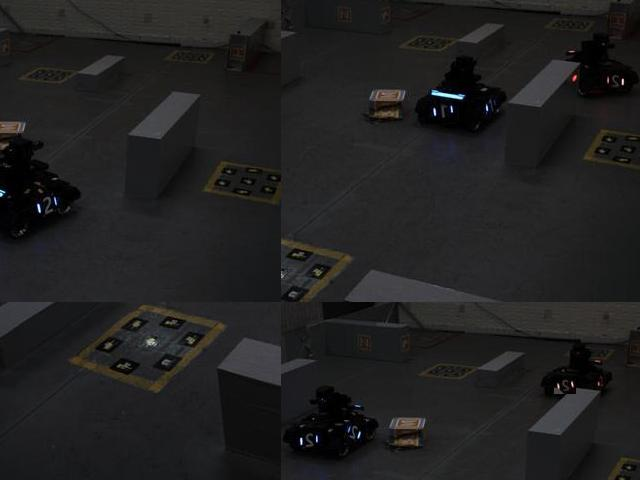armor: (430, 101, 459, 126), (33, 194, 62, 218), (295, 428, 324, 451), (601, 69, 629, 92), (345, 420, 368, 446), (478, 94, 501, 116), (554, 376, 577, 395)
